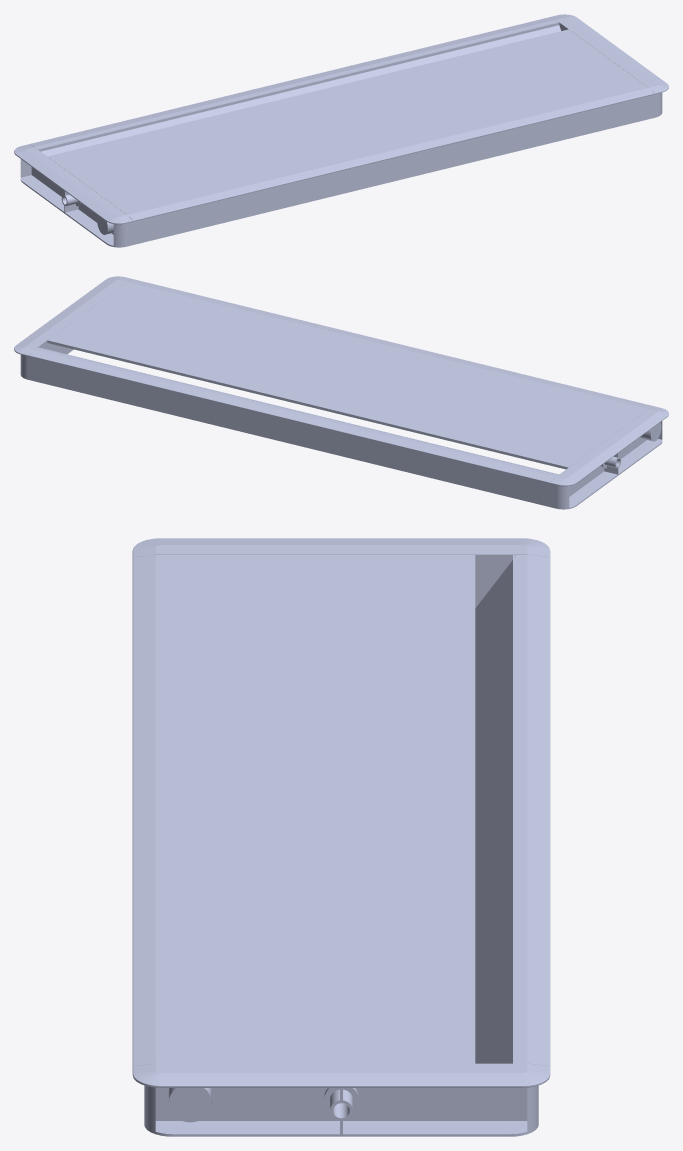
The model's file is Access_FLap_450L_145D.gltf.
3 views of the same model, one above another, from view 1: azimuth 30°, elevation 25°; view 2: azimuth 150°, elevation 25°; view 3: azimuth 270°, elevation 25° (orthographic). The views are drawn at different scales.
Parts seen in each view (by area): view 1: Access FLap 450L 145D; view 2: Access FLap 450L 145D; view 3: Access FLap 450L 145D.
Part boxes in pixels (bbox=[...]): Access FLap 450L 145D: bbox=[14, 14, 668, 247]; Access FLap 450L 145D: bbox=[14, 276, 668, 509]; Access FLap 450L 145D: bbox=[132, 538, 550, 1136].
Size of the model in its own units: 0.45 by 0.022 by 0.145.
